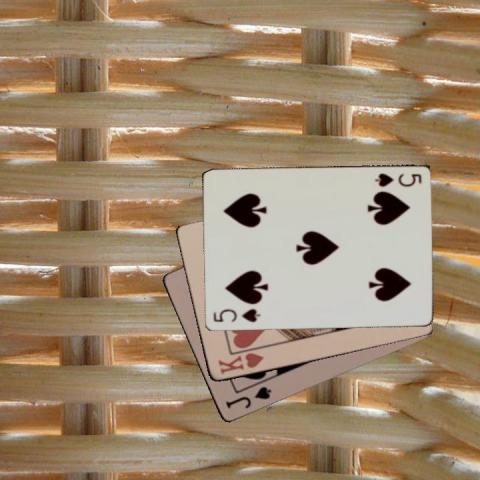5s: (371, 170, 423, 189), (210, 306, 261, 324)
Js: (222, 383, 273, 411)
Kh: (214, 350, 264, 377)
